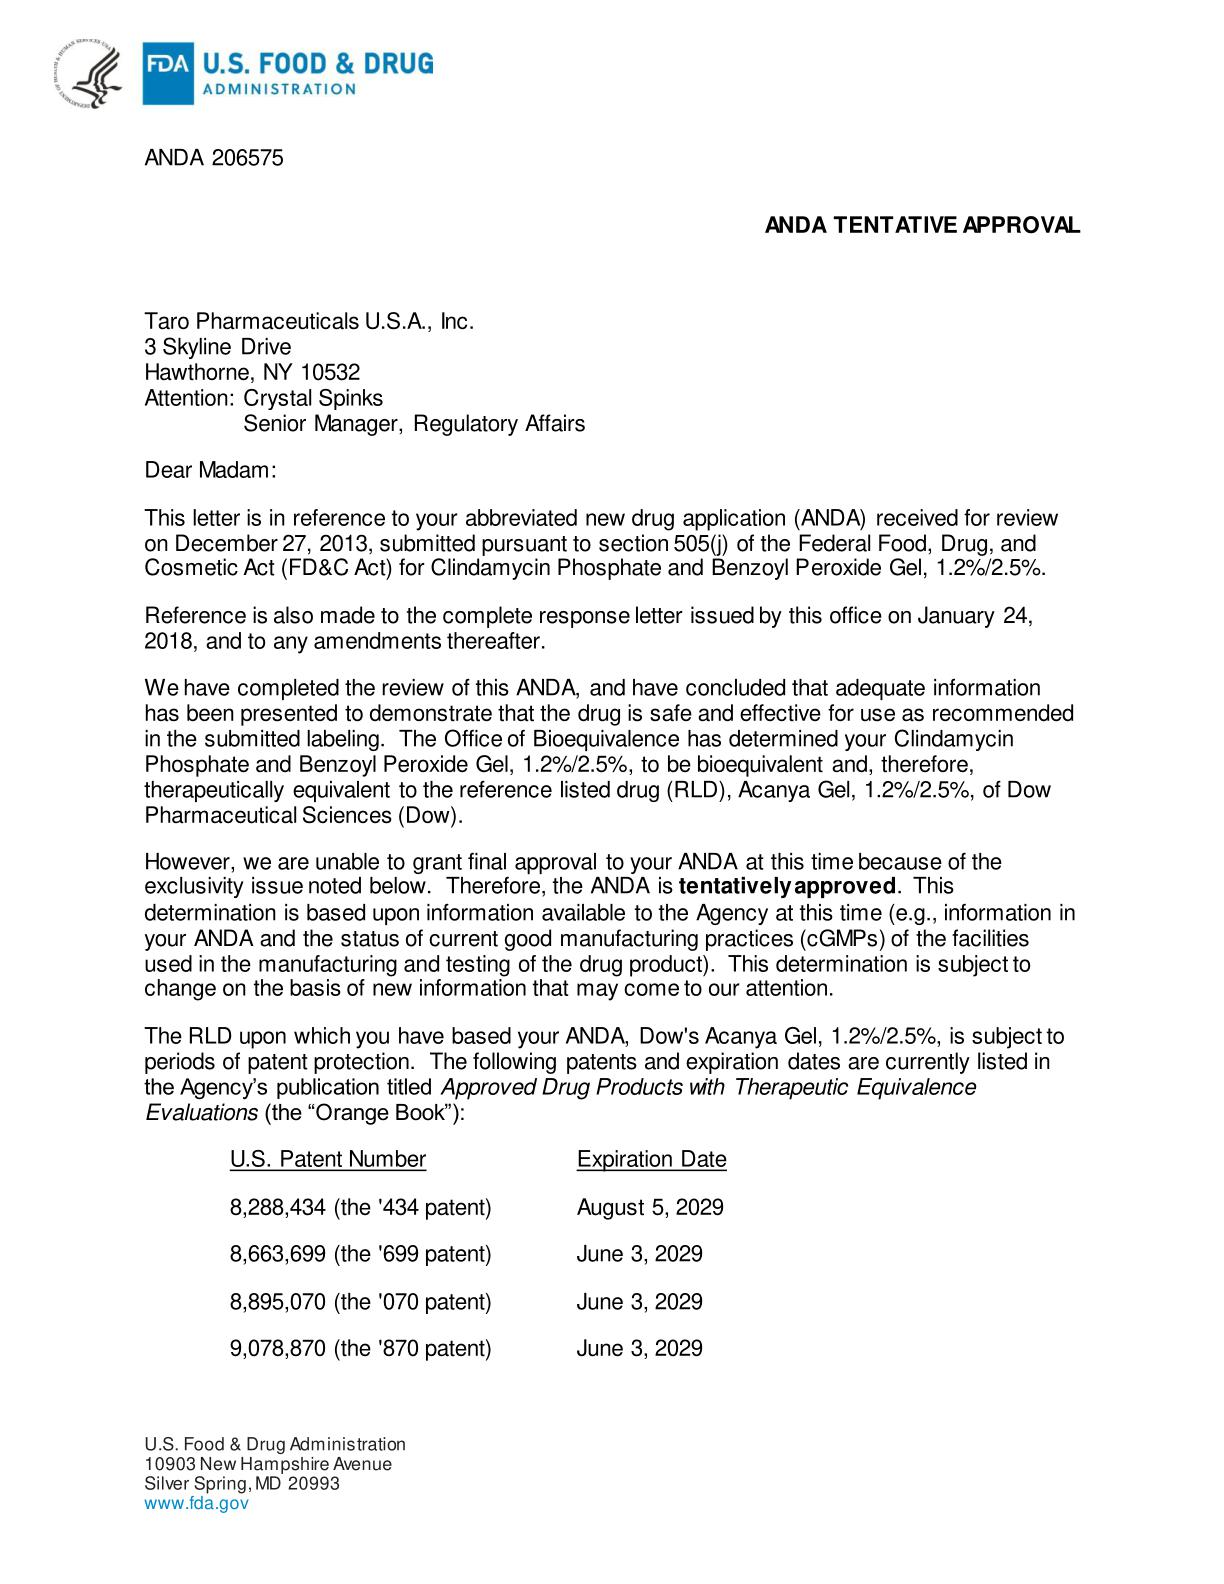nolines: (228, 1147, 729, 1359)
